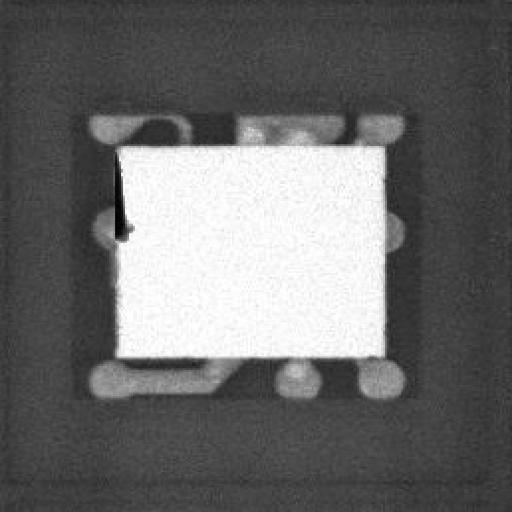DIE_BROKEN: (105, 148, 135, 245)
